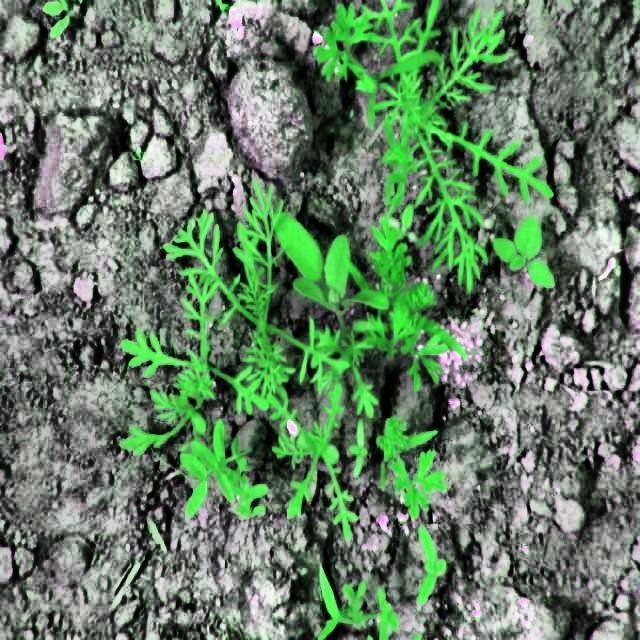Weeds: (271, 202, 388, 331), (492, 212, 564, 290), (415, 527, 449, 606)
undefined: (122, 178, 364, 536), (316, 0, 552, 289), (336, 269, 463, 408), (375, 408, 448, 513), (317, 571, 400, 639)
